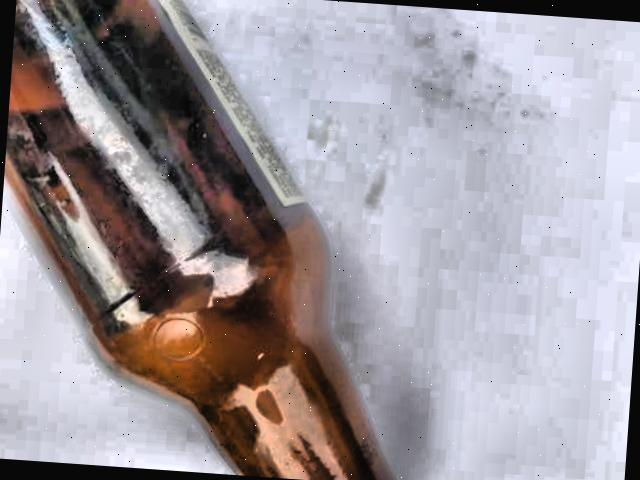Bottles: (0, 0, 436, 480)
